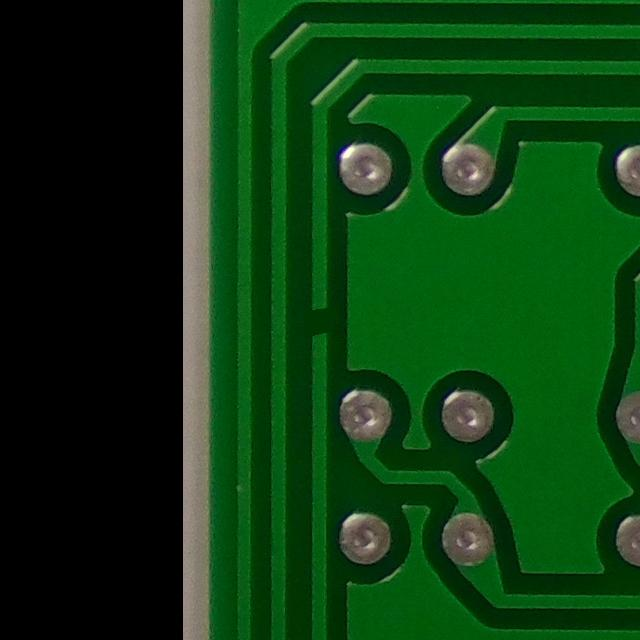open_circuit: (302, 290, 338, 350)
